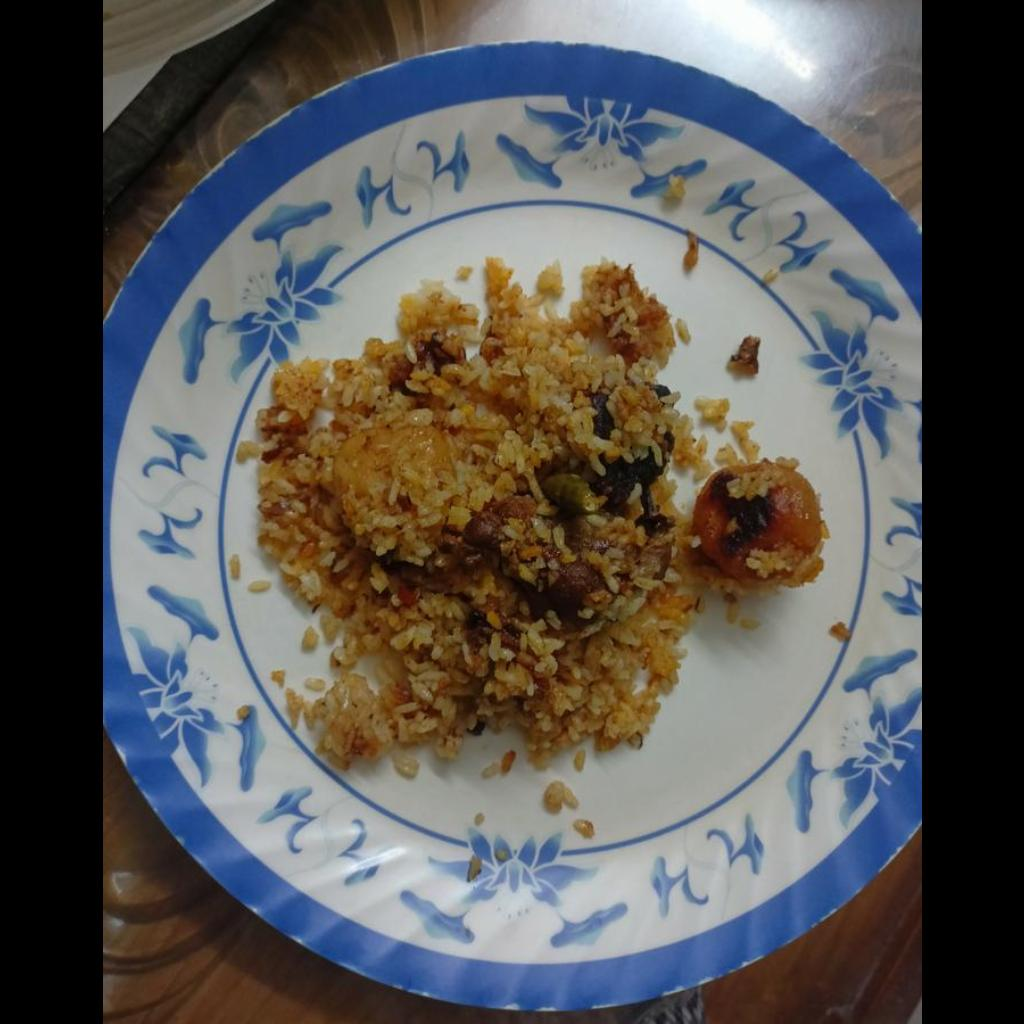biriyani: (247, 258, 823, 759)
